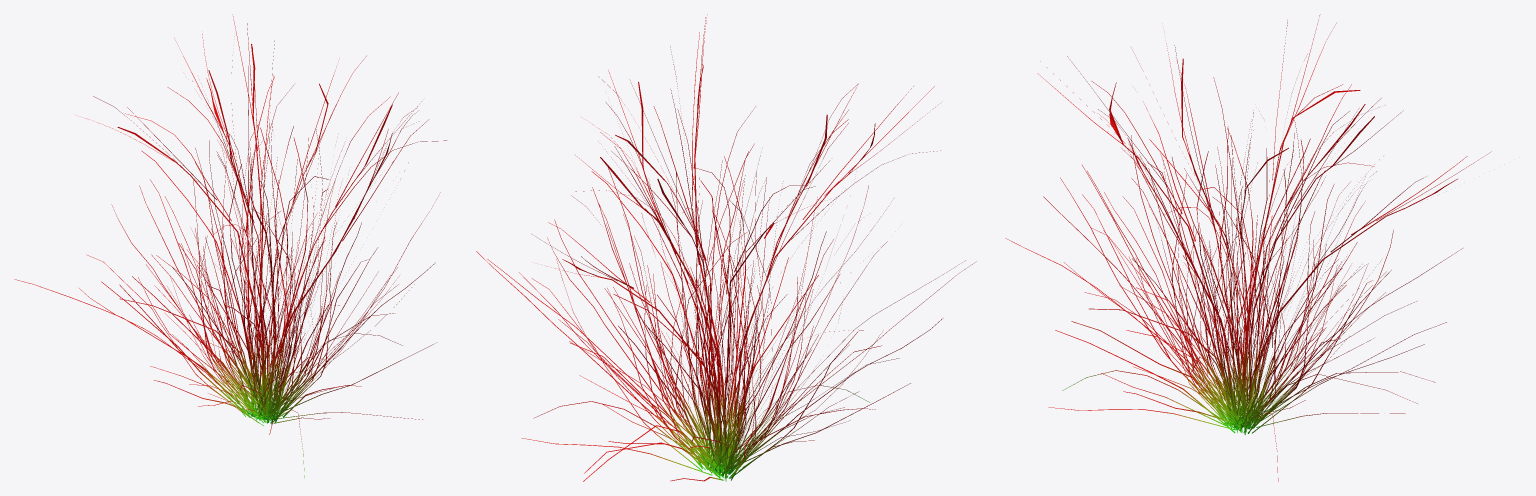
File: Xeric Grass_LOD3_Var8_xjfgdhaqx.fbx
The picture shows the model from 3 angles, left to right: view 1: azimuth 30°, elevation 25°; view 2: azimuth 150°, elevation 25°; view 3: azimuth 270°, elevation 25°; orthographic projection. The views are drawn at different scales.
Parts seen in each view (by area): view 1: _lue1_Var8_LOD3; view 2: _lue1_Var8_LOD3; view 3: _lue1_Var8_LOD3.
Boxes of the visible parts, bbox=[...] form: _lue1_Var8_LOD3: bbox=[14, 14, 446, 477]; _lue1_Var8_LOD3: bbox=[476, 14, 976, 481]; _lue1_Var8_LOD3: bbox=[1005, 14, 1491, 481].
Bounding box in the file's own units: 375 × 325 × 421.
